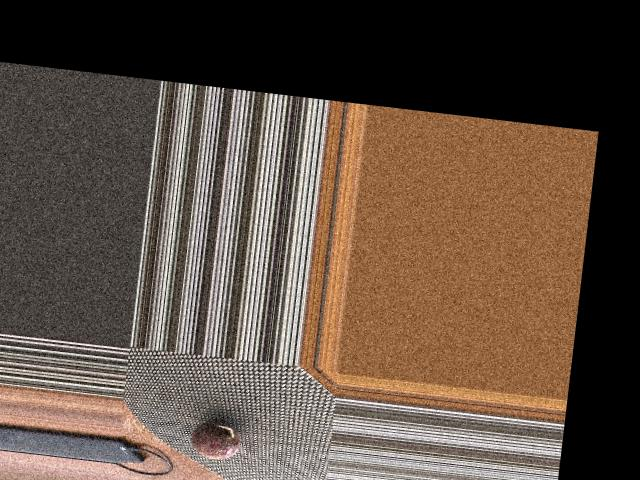beet: (188, 418, 241, 461)
